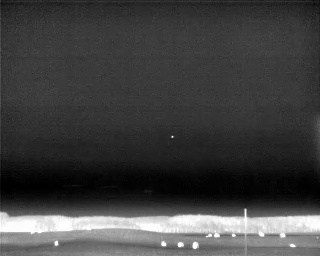BIRD: (169, 133, 175, 141)
